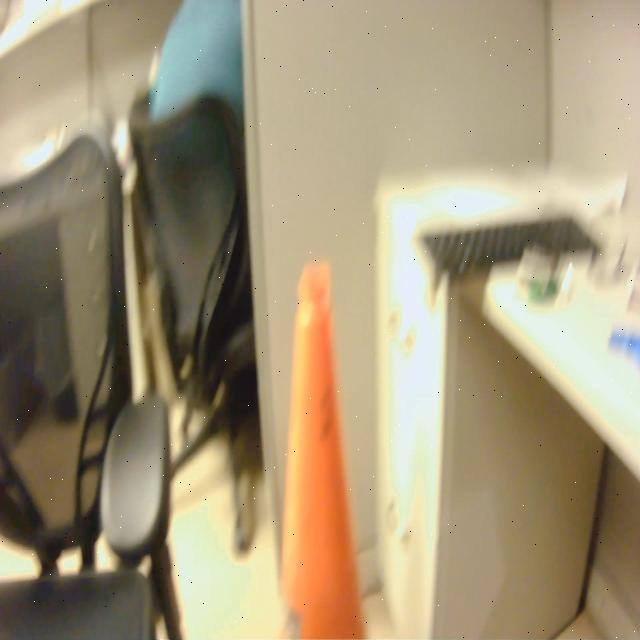traffic cone: (269, 255, 385, 640)
